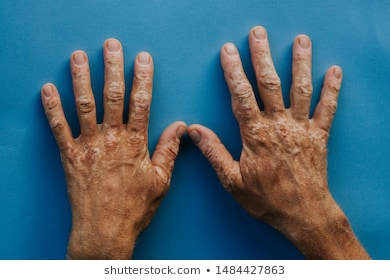Diseased: (56, 63, 337, 199)
